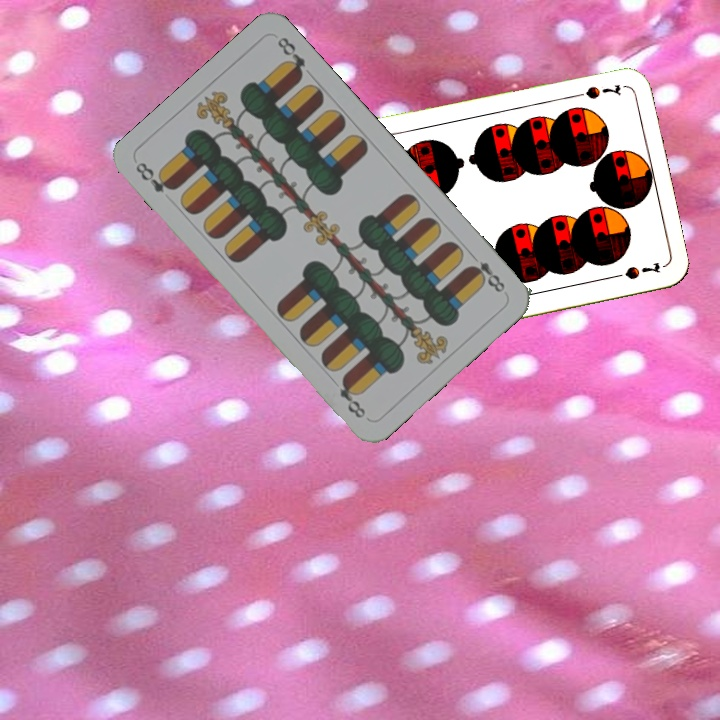E8: (464, 248, 508, 295), (131, 158, 179, 195)
S7: (566, 80, 623, 102)
